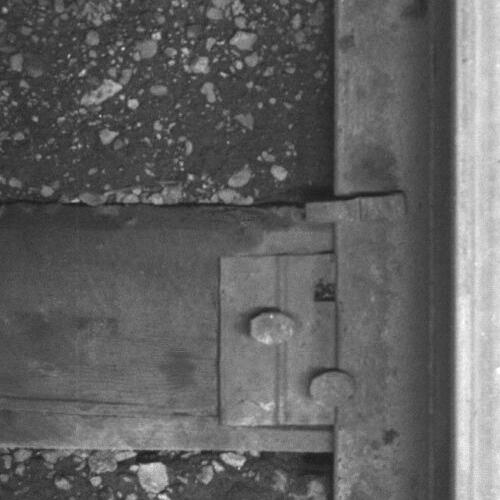crutch: (304, 192, 408, 226)
do: (218, 255, 357, 427)
hole_do: (306, 273, 345, 312)
rail: (452, 1, 500, 500)
tie_wood: (1, 206, 334, 455)
wood_crack: (1, 388, 166, 413)
